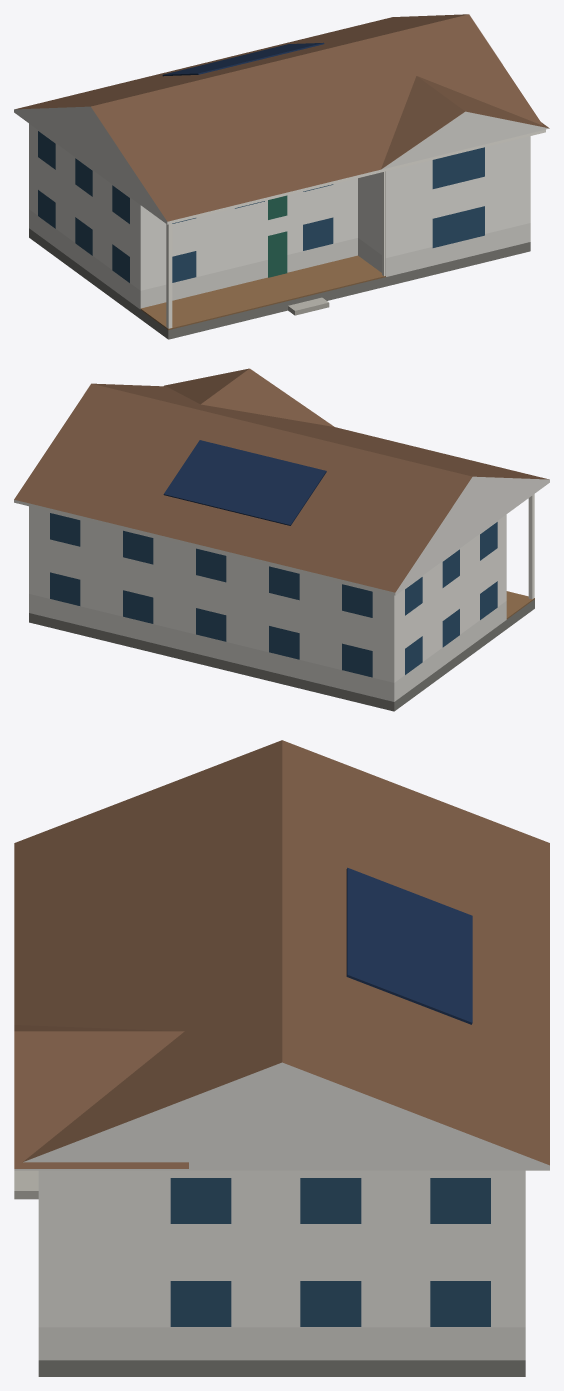
File: house_18x12_2f_lod1.glb
The picture shows the model from 3 angles, top to bottom: view 1: azimuth 30°, elevation 25°; view 2: azimuth 150°, elevation 25°; view 3: azimuth 270°, elevation 25°; orthographic projection. The views are drawn at different scales.
Parts seen in each view (by area): view 1: house; view 2: house; view 3: house.
Boxes of the visible parts, box(x1,y1,x2,y2) form: house: box(14, 14, 549, 339); house: box(14, 368, 549, 711); house: box(14, 740, 549, 1376).
Bounding box in the file's own units: 19 × 8.74 × 13.21.
